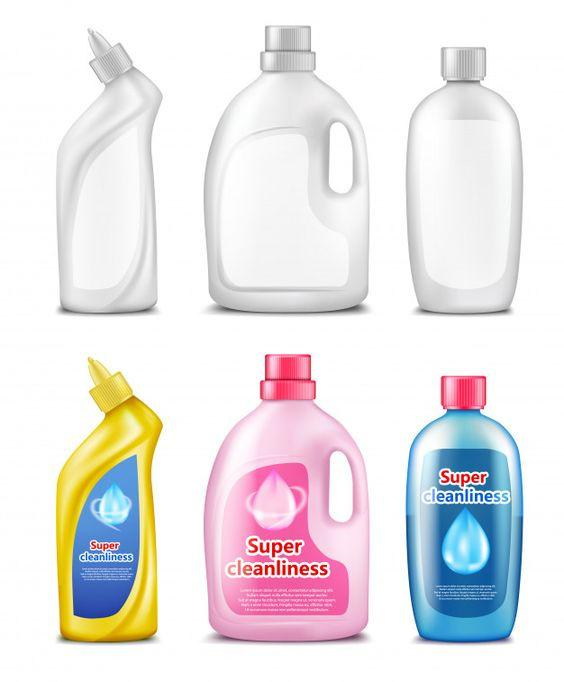HDPE: (196, 328, 396, 682), (188, 0, 396, 335), (0, 0, 190, 329), (18, 328, 191, 672), (396, 0, 564, 347), (391, 338, 553, 682)
